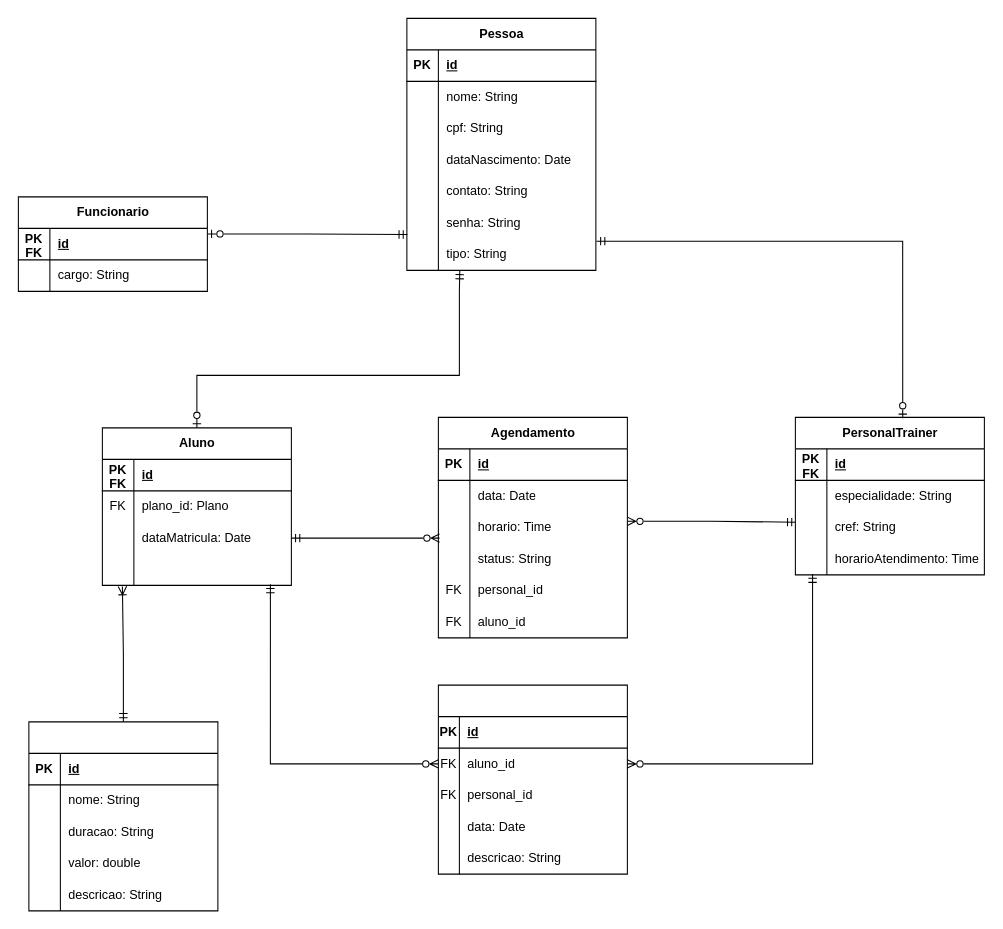
The diagram is 1003 pixels wide and 929 high, and some of its shapes have lost their labels. Each missing label, with the box of its shape:
Avaliacao: (437, 684, 627, 874)
Plano: (28, 721, 218, 911)
